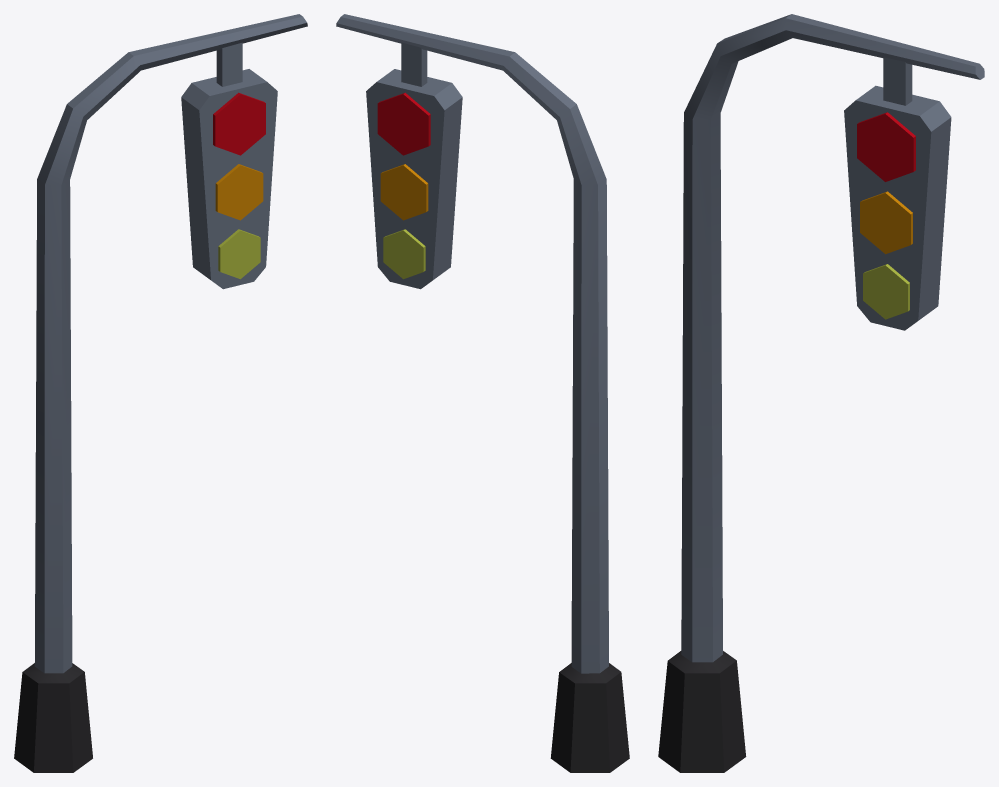
Rendered from Traffic Light 1.fbx.
3 views of the same model, side by side, from view 1: azimuth 30°, elevation 25°; view 2: azimuth 150°, elevation 25°; view 3: azimuth 330°, elevation 25° (orthographic). The views are drawn at different scales.
Parts seen in each view (by area): view 1: Traffic_Light_01; view 2: Traffic_Light_01; view 3: Traffic_Light_01.
Part boxes in pixels (x1,y1,x2,y2): Traffic_Light_01: (14,14,307,772); Traffic_Light_01: (336,14,629,772); Traffic_Light_01: (658,14,984,772).
Bounding box in the file's own units: 88.49 × 205 × 21.5.
